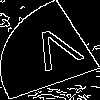V: (25, 24, 91, 81)
